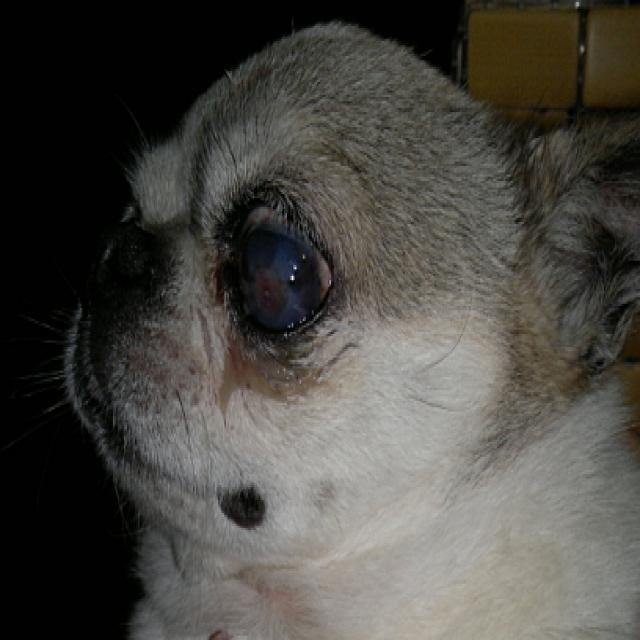eye: (222, 186, 339, 348)
